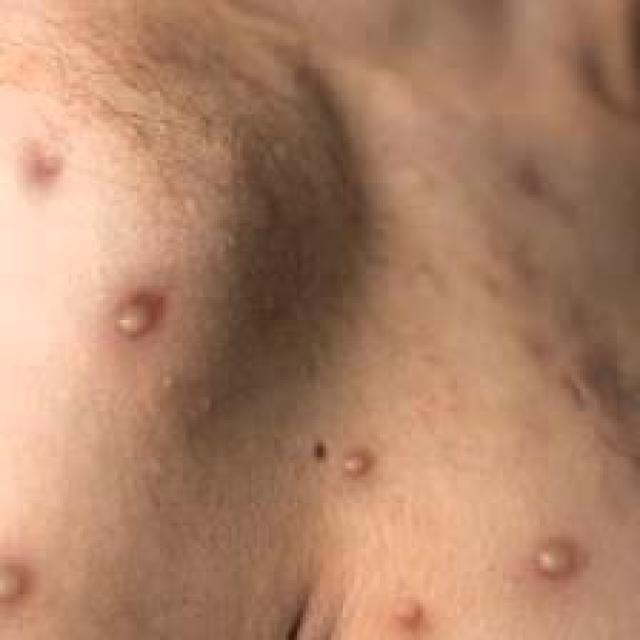monkeypox: (0, 65, 595, 640)
